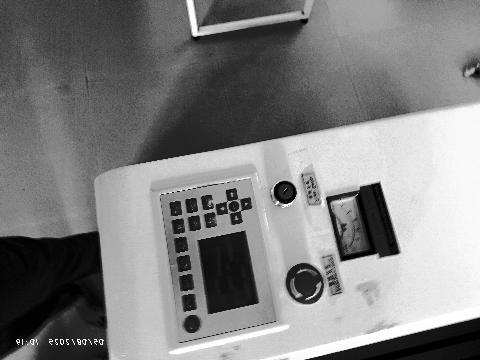Amp_Meter: (329, 192, 371, 257)
Display: (198, 231, 257, 313)
Down_button: (216, 203, 227, 215)
Emergency_Stop: (286, 263, 324, 305)
Enter_button: (201, 195, 213, 210)
Esc_button: (204, 212, 217, 228)
File_button: (172, 219, 185, 234)
Frame_button: (186, 198, 198, 213)
Left_button: (231, 212, 242, 224)
Max-Power_button: (176, 237, 187, 253)
Min-Power_button: (178, 255, 189, 271)
Origin_button: (189, 216, 201, 231)
Power_switch: (271, 181, 297, 207)
Pulse_button: (183, 294, 194, 311)
Reset_button: (185, 315, 199, 333)
Right_button: (226, 189, 238, 201)
Speed_button: (181, 275, 192, 291)
Start-Pause_button: (170, 201, 182, 216)
Up_button: (241, 198, 252, 210)
Z_U_button: (229, 201, 239, 211)
